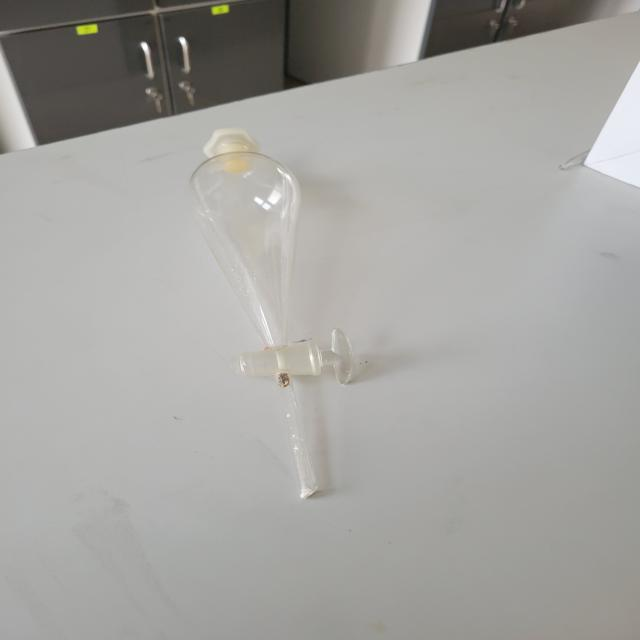Separating_Funnel: (148, 111, 388, 518)
